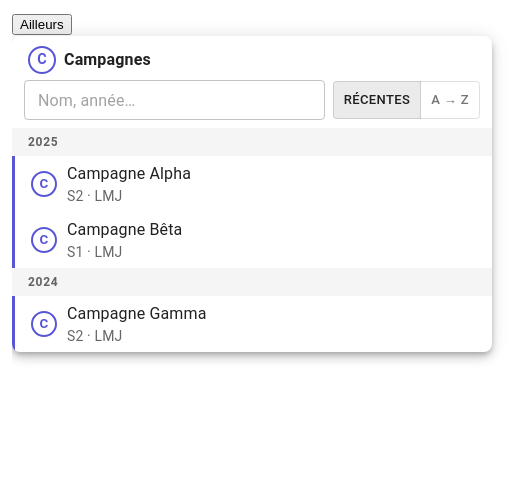
Test: EntityRefPicker — étape 2 (références de la campagne) › choisir une campagne ouvre l’étape 2 : retour, nom en gras, filtre focalisé, groupes limités à la campagne
Click the menu item "C Campagne Alpha S2 · LMJ" at (129,174), box [12,156,492,212]
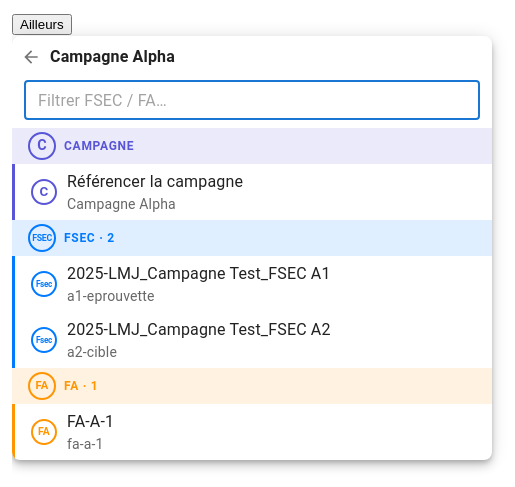
Now the button named "Toutes les campagnes" is shown, box [16,42,46,72]
Now the text "CAMPAGNE" is shown, box [64,139,134,153]
Now the text "FSEC · 2" is shown, box [64,231,115,245]
